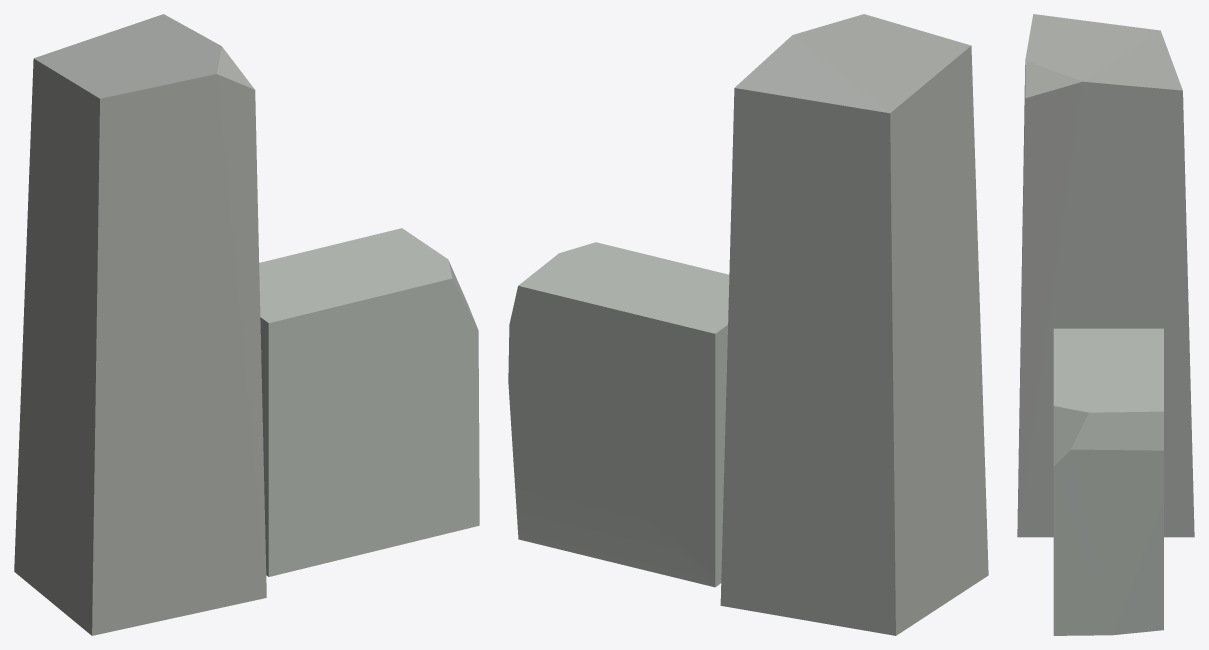
File: Rocks_Square_l_04 2.fbx
3 renders of one model, left to right at view 1: azimuth 30°, elevation 25°; view 2: azimuth 150°, elevation 25°; view 3: azimuth 270°, elevation 25°, orthographic. The views are drawn at different scales.
Visible parts, largest first — view 1: Rocks_Square_l_04; view 2: Rocks_Square_l_04; view 3: Rocks_Square_l_04.
Boxes of the visible parts, bbox=[...] form: Rocks_Square_l_04: bbox=[14, 14, 479, 635]; Rocks_Square_l_04: bbox=[508, 14, 988, 635]; Rocks_Square_l_04: bbox=[1017, 14, 1194, 635].
Bounding box in the file's own units: 192 × 241 × 84.64.
